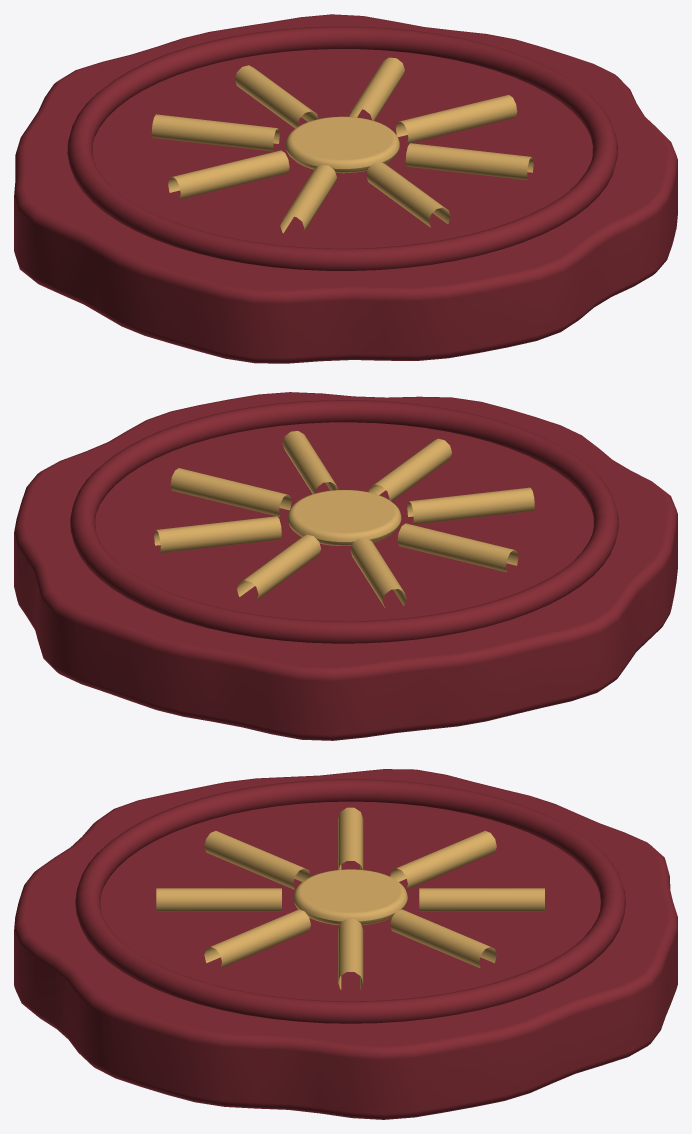
File: wax-signet-v1.glb
3 views of the same model, one above another, from view 1: azimuth 30°, elevation 25°; view 2: azimuth 150°, elevation 25°; view 3: azimuth 270°, elevation 25° (orthographic).
Visible parts, largest first — view 1: SoftWaxSignet, WaxImpressionRim, SignetHeart, StampedStar.003, StampedStar.007, StampedStar.004, StampedStar, StampedStar.006, StampedStar.002, StampedStar.005, StampedStar.001; view 2: SoftWaxSignet, WaxImpressionRim, SignetHeart, StampedStar.001, StampedStar.005, StampedStar.004, StampedStar, StampedStar.002, StampedStar.006, StampedStar.003, StampedStar.007; view 3: SoftWaxSignet, WaxImpressionRim, SignetHeart, StampedStar.002, StampedStar.006, StampedStar.001, StampedStar.007, StampedStar.005, StampedStar.003, StampedStar, StampedStar.004.
Part boxes in pixels (<box>): SoftWaxSignet: <box>14,14,677,363</box>; WaxImpressionRim: <box>67,26,617,270</box>; SignetHeart: <box>285,116,399,173</box>; StampedStar.003: <box>151,114,279,151</box>; StampedStar.007: <box>405,143,533,180</box>; StampedStar.004: <box>168,150,289,199</box>; StampedStar: <box>396,95,517,143</box>; StampedStar.006: <box>366,161,450,227</box>; StampedStar.002: <box>234,65,318,128</box>; StampedStar.005: <box>280,164,336,234</box>; StampedStar.001: <box>349,57,404,120</box>; SoftWaxSignet: <box>14,392,677,740</box>; WaxImpressionRim: <box>70,400,618,643</box>; SignetHeart: <box>287,490,401,545</box>; StampedStar.001: <box>154,516,281,553</box>; StampedStar.005: <box>407,487,534,524</box>; StampedStar.004: <box>397,523,518,572</box>; StampedStar: <box>170,468,291,516</box>; StampedStar.002: <box>237,534,320,600</box>; StampedStar.006: <box>368,438,451,501</box>; StampedStar.003: <box>350,538,406,607</box>; StampedStar.007: <box>282,431,337,493</box>; SoftWaxSignet: <box>14,769,677,1119</box>; WaxImpressionRim: <box>75,779,625,1023</box>; SignetHeart: <box>293,869,407,925</box>; StampedStar.002: <box>419,888,544,911</box>; StampedStar.006: <box>156,888,281,911</box>; StampedStar.001: <box>390,909,496,968</box>; StampedStar.007: <box>204,909,310,968</box>; StampedStar.005: <box>204,831,310,889</box>; StampedStar.003: <box>390,830,496,889</box>; StampedStar: <box>338,919,363,989</box>; StampedStar.004: <box>338,807,363,869</box>.
Bounding box in the file's own units: 1.18 × 0.1749 × 1.16.
